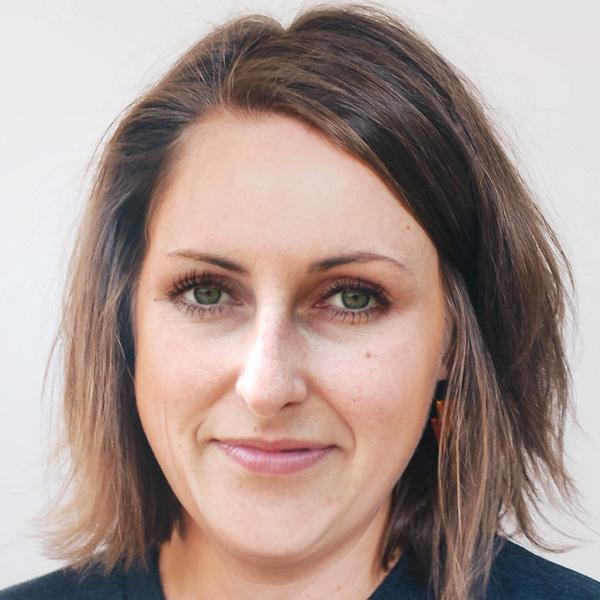Eyes: (295, 266, 395, 329), (154, 262, 250, 327)
